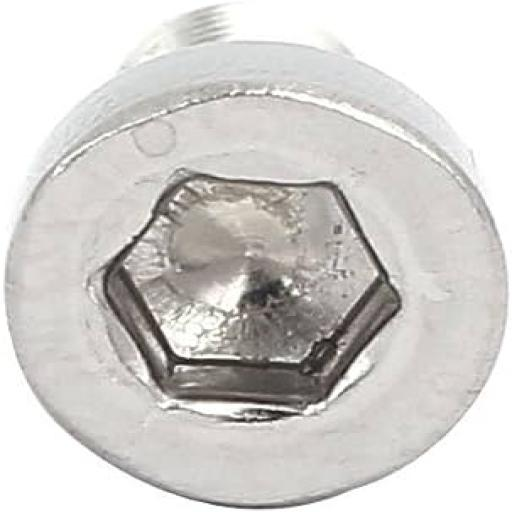Hex-Allen: (4, 45, 505, 508)
